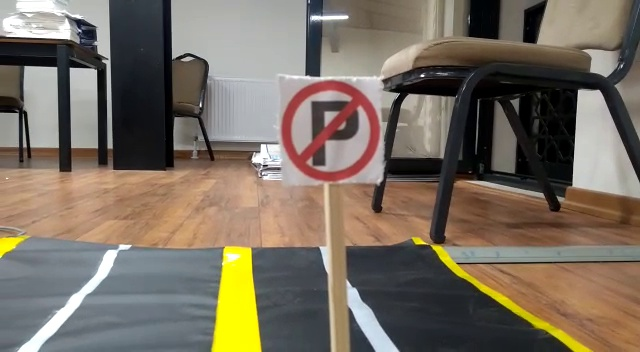park_yapilmaz: (280, 75, 381, 184)
